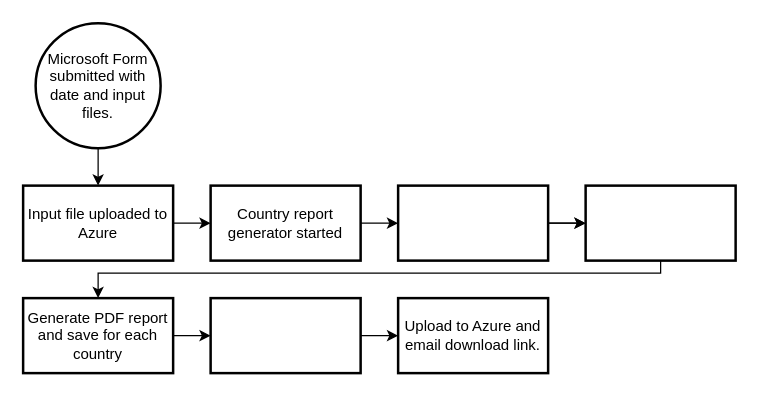
Some shapes in this 758 by 395 pixel diagram are drawn without their labels. Here are the shapes that lost their labels. From the top down, the centre of each, then its label:
[472,222]: Load in the data
[660,222]: Create the boilerplate text and graphics for each country
[285,335]: ZIP finished reports
